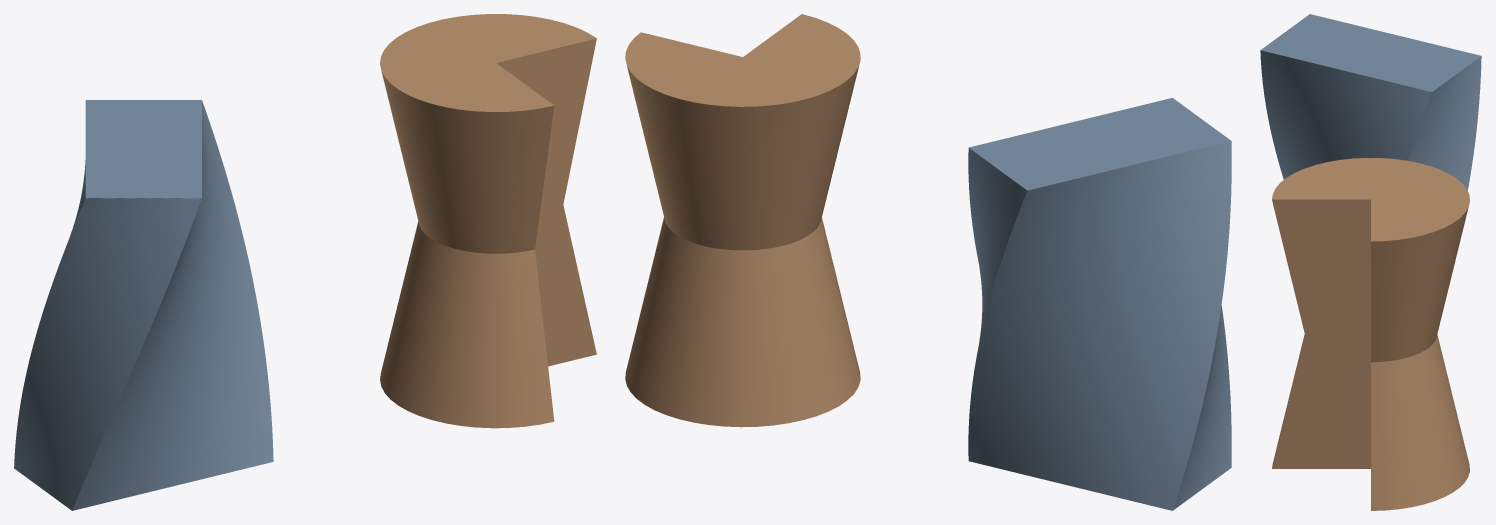
The model's file is solids_profiles.glb.
The picture shows the model from 3 angles, left to right: view 1: azimuth 30°, elevation 25°; view 2: azimuth 150°, elevation 25°; view 3: azimuth 270°, elevation 25°; orthographic projection. The views are drawn at different scales.
Parts seen in each view (by area): view 1: twisted, turned; view 2: twisted, turned; view 3: turned, twisted.
Boxes of the visible parts, <box> form: twisted: <box>14,100,273,510</box>; turned: <box>380,14,596,428</box>; twisted: <box>968,98,1231,510</box>; turned: <box>625,14,860,427</box>; turned: <box>1272,157,1469,510</box>; twisted: <box>1260,14,1481,190</box>.
Size of the model in its own units: 0.1124 by 0.06 by 0.0446.
